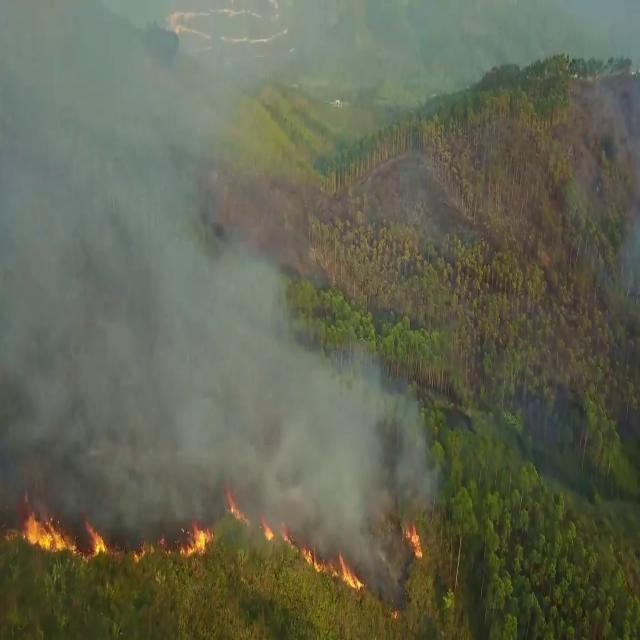Fire: (260, 508, 368, 590), (19, 508, 110, 560), (132, 516, 214, 564), (224, 487, 252, 525), (404, 524, 424, 562)
Smoke: (1, 1, 446, 609)
